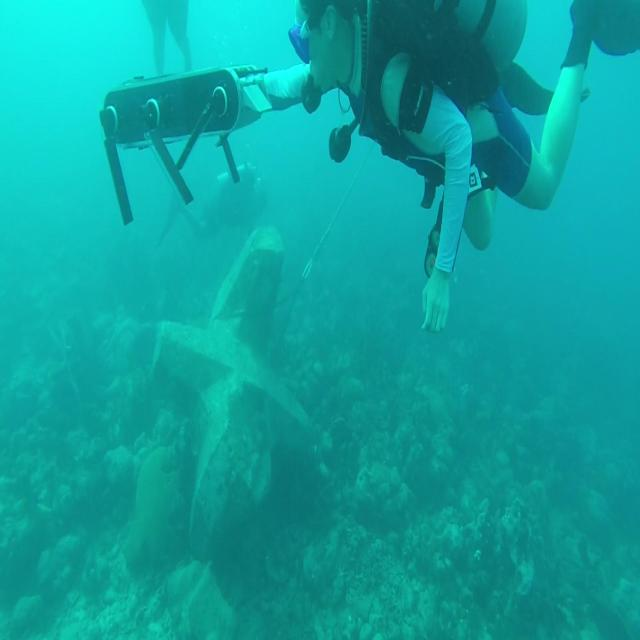human: (284, 0, 638, 332)
